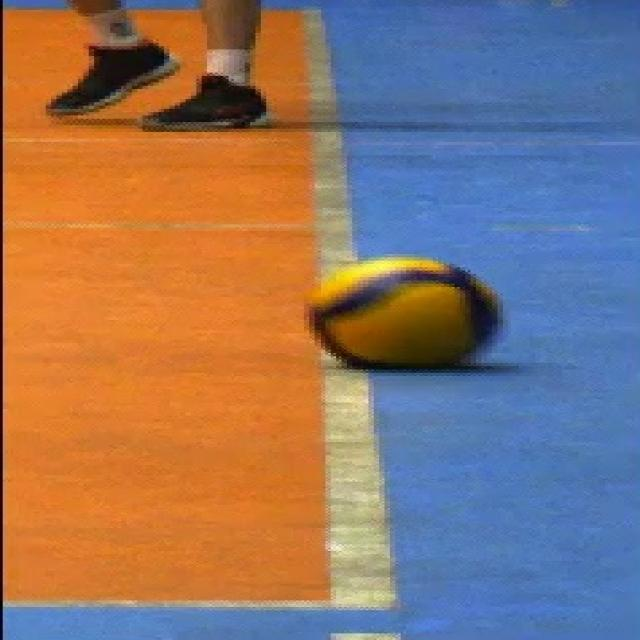Volleyball: (310, 261, 503, 369)
